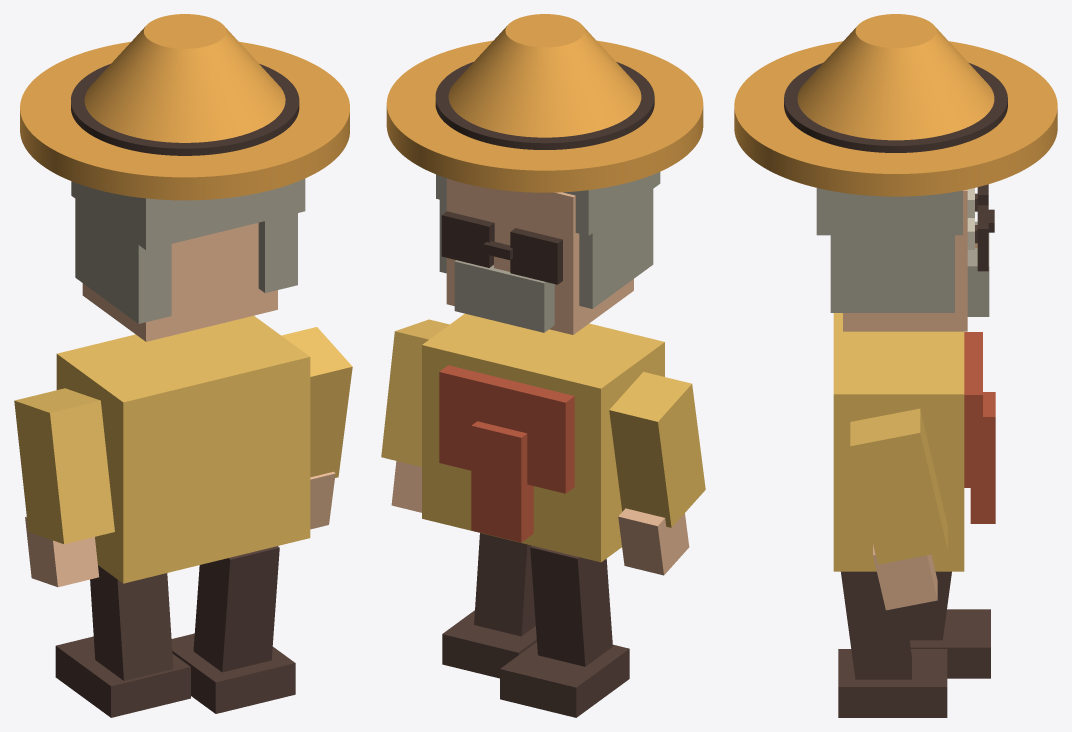
File: orbit_customer_character.glb
3 renders of one model, left to right at view 1: azimuth 30°, elevation 25°; view 2: azimuth 150°, elevation 25°; view 3: azimuth 270°, elevation 25°, orthographic. The views are drawn at different scales.
Size of the model in its own units: 0.00105 by 0.0023 by 0.00104.
